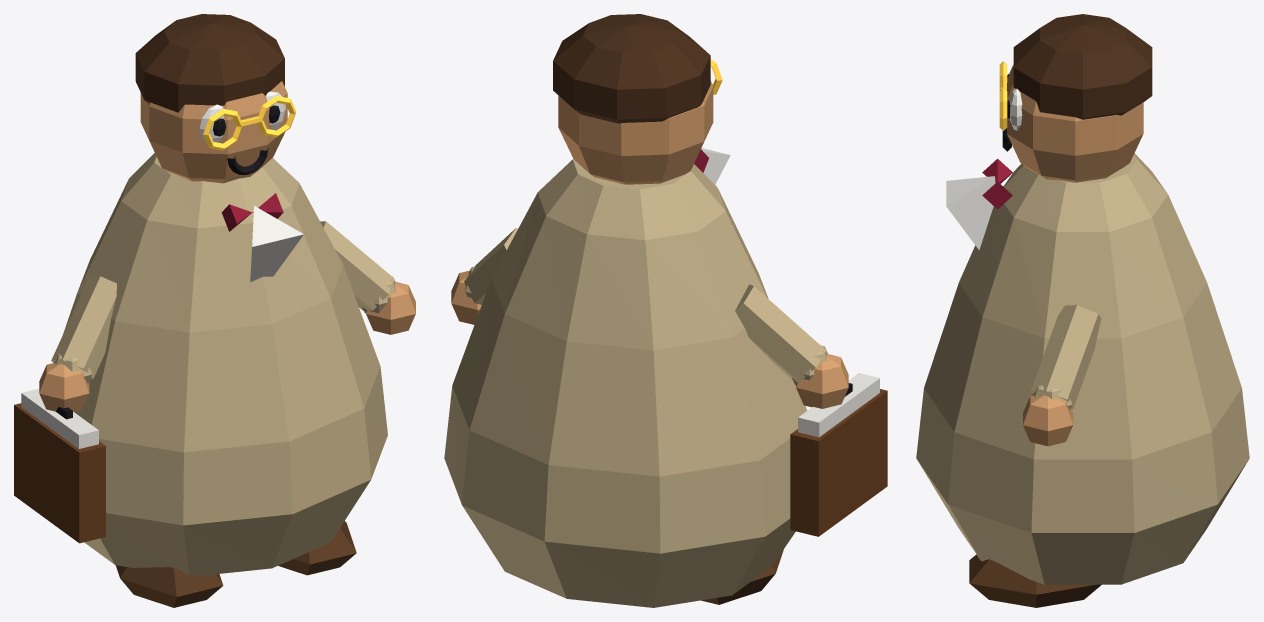
File: npc_abogado.glb
3 views of the same model, side by side, from view 1: azimuth 30°, elevation 25°; view 2: azimuth 150°, elevation 25°; view 3: azimuth 270°, elevation 25° (orthographic). The views are drawn at different scales.
Parts seen in each view (by area): view 1: body_beige_suit, head_hair_brown, props_case_brown, head_skin_arena, arms_beige_suit, legs_brown_shoes, arms_skin_arena, body_white, props_white, face_gold, face_black, body_bowtie (+1 smaller); view 2: body_beige_suit, head_hair_brown, props_case_brown, head_skin_arena, arms_beige_suit, arms_skin_arena, props_white, legs_brown_shoes; view 3: body_beige_suit, head_hair_brown, head_skin_arena, arms_beige_suit, legs_brown_shoes, body_white, arms_skin_arena, body_bowtie, face_gold, face_white.
Boxes of the visible parts, x1,y1,x2,y2 form: body_beige_suit: (63, 153, 387, 575); head_hair_brown: (135, 14, 284, 112); props_case_brown: (14, 403, 105, 543); head_skin_arena: (140, 81, 287, 183); arms_beige_suit: (51, 221, 396, 383); legs_brown_shoes: (116, 521, 356, 607); arms_skin_arena: (39, 282, 415, 411); body_white: (250, 206, 303, 281); props_white: (21, 388, 98, 448); face_gold: (203, 95, 296, 150); face_black: (213, 105, 280, 174); body_bowtie: (221, 193, 283, 231); body_beige_suit: (444, 159, 807, 607); head_hair_brown: (553, 14, 710, 123); props_case_brown: (790, 389, 887, 536); head_skin_arena: (558, 81, 713, 184); arms_beige_suit: (464, 228, 827, 384); arms_skin_arena: (451, 270, 848, 408); props_white: (798, 373, 879, 437); legs_brown_shoes: (701, 549, 783, 604); body_beige_suit: (916, 153, 1249, 584); head_hair_brown: (1013, 14, 1152, 119); head_skin_arena: (1007, 66, 1143, 182); arms_beige_suit: (1030, 305, 1101, 409); legs_brown_shoes: (969, 554, 1101, 607); body_white: (946, 176, 995, 249); arms_skin_arena: (1023, 395, 1073, 446); body_bowtie: (982, 158, 1012, 209); face_gold: (999, 61, 1007, 130); face_white: (1009, 64, 1022, 130).
Bounding box in the file's own units: 1.13 × 1.54 × 0.86.
